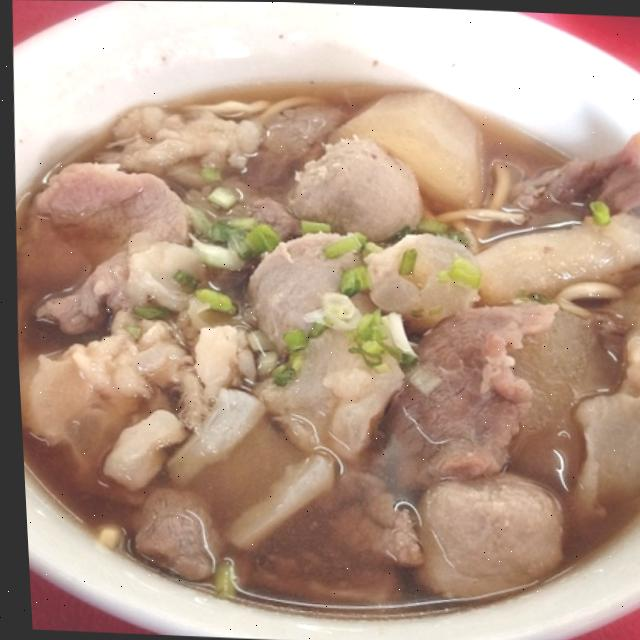面条主食: (1, 21, 640, 633)
